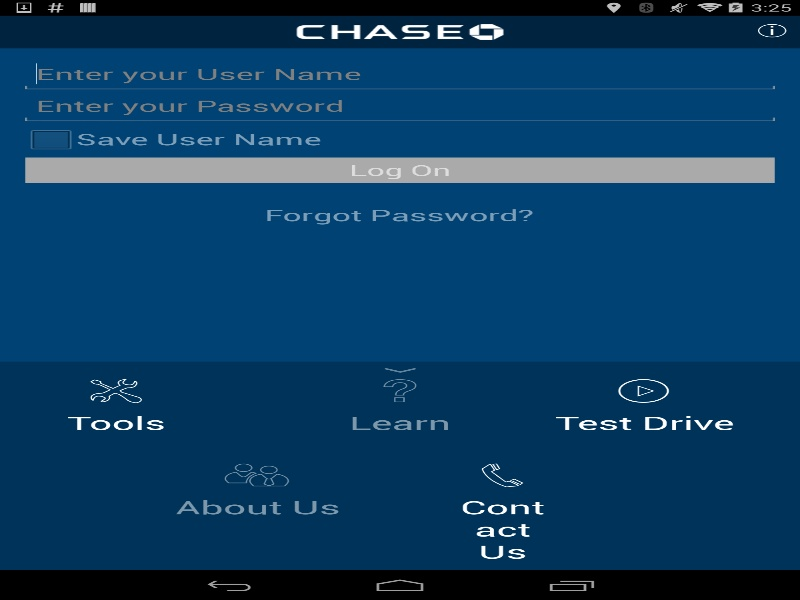Button: (25, 157, 774, 182)
Input: (25, 58, 774, 89), (25, 90, 774, 121)
